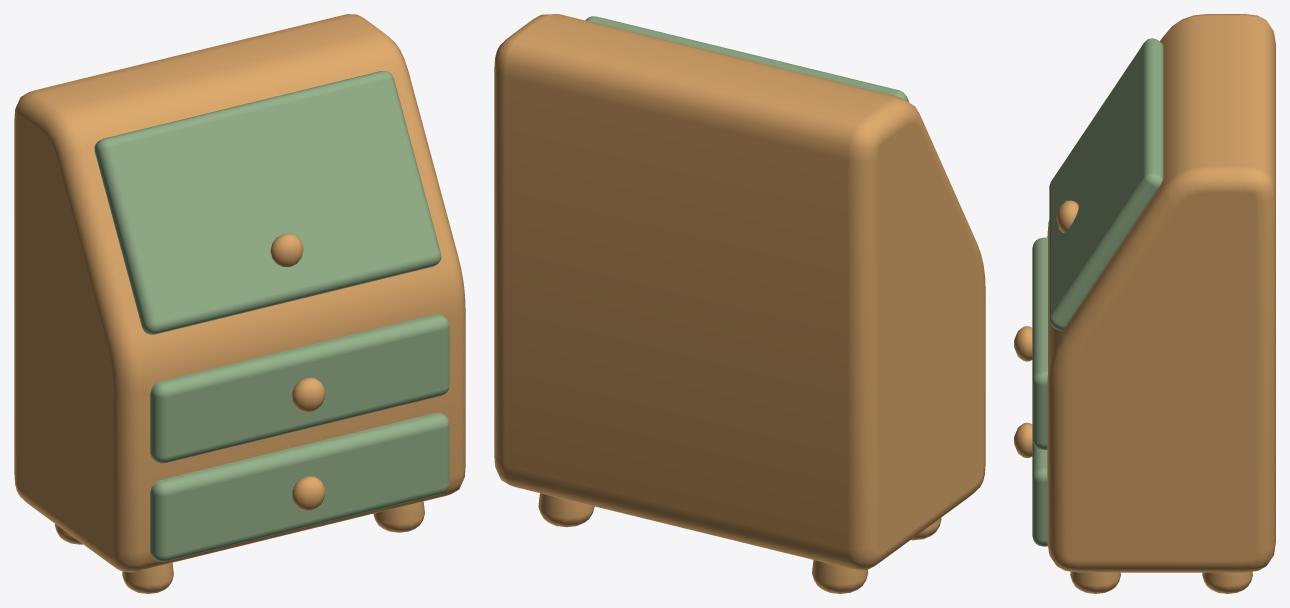
The model's file is 04-writing-bureau.glb.
The picture shows the model from 3 angles, left to right: view 1: azimuth 30°, elevation 25°; view 2: azimuth 150°, elevation 25°; view 3: azimuth 270°, elevation 25°; orthographic projection. The views are drawn at different scales.
Parts seen in each view (by area): view 1: 04-writing-bureau_mesh; view 2: 04-writing-bureau_mesh; view 3: 04-writing-bureau_mesh.
Boxes of the visible parts, <box> form: 04-writing-bureau_mesh: <box>14,14,465,593</box>; 04-writing-bureau_mesh: <box>494,14,985,593</box>; 04-writing-bureau_mesh: <box>1014,14,1275,593</box>.
Size of the model in its own units: 0.78 by 0.95 by 0.5156.
